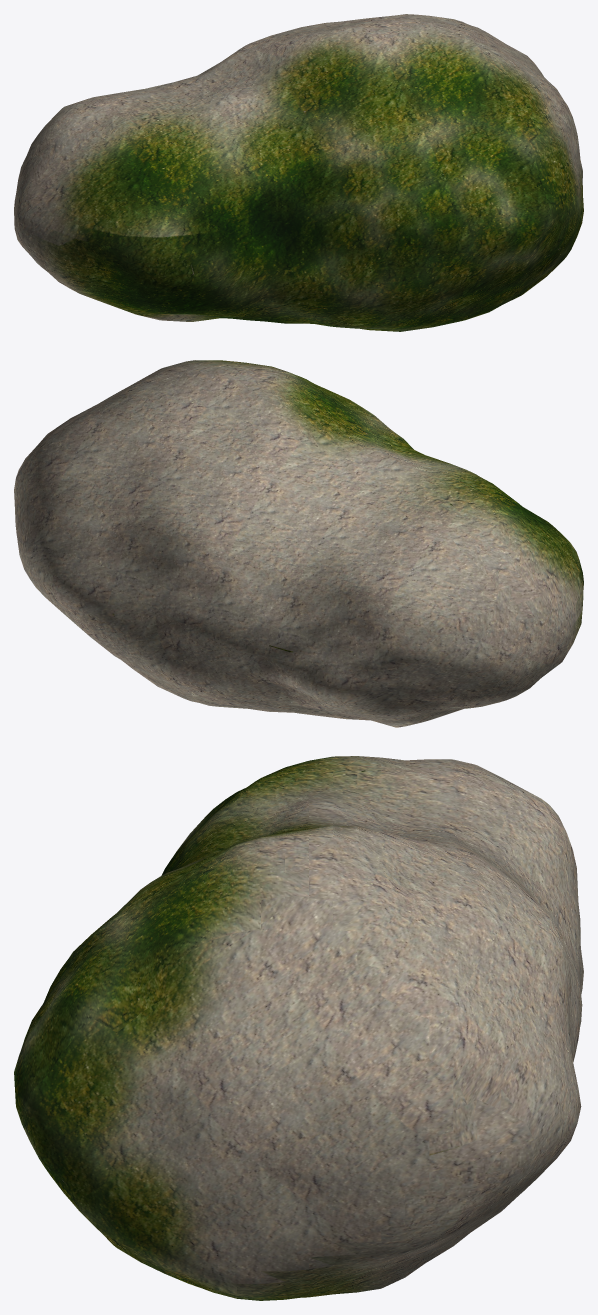
Rendered from rock1_3.obj.
3 renders of one model, top to bottom at view 1: azimuth 30°, elevation 25°; view 2: azimuth 150°, elevation 25°; view 3: azimuth 270°, elevation 25°, orthographic. The views are drawn at different scales.
Visible parts, largest first — view 1: rock1.001; view 2: rock1.001; view 3: rock1.001.
Part boxes in pixels (x1=…): rock1.001: x1=14, y1=14, x2=583, y2=331; rock1.001: x1=14, y1=360, x2=583, y2=727; rock1.001: x1=14, y1=756, x2=583, y2=1300.
Size of the model in its own units: 3.7 by 1.98 by 2.45.
